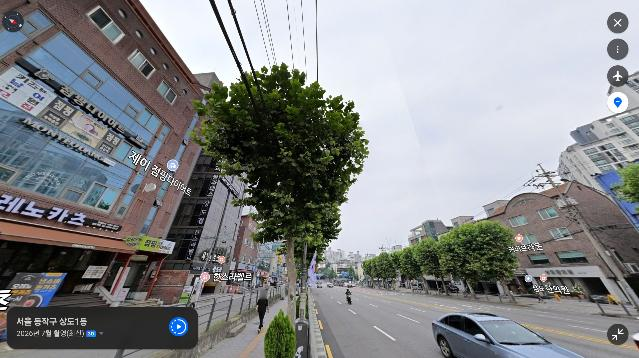other: (188, 62, 370, 325), (429, 219, 520, 305), (401, 237, 458, 298), (386, 245, 423, 295), (373, 251, 399, 291), (618, 159, 639, 207), (362, 256, 382, 289)
